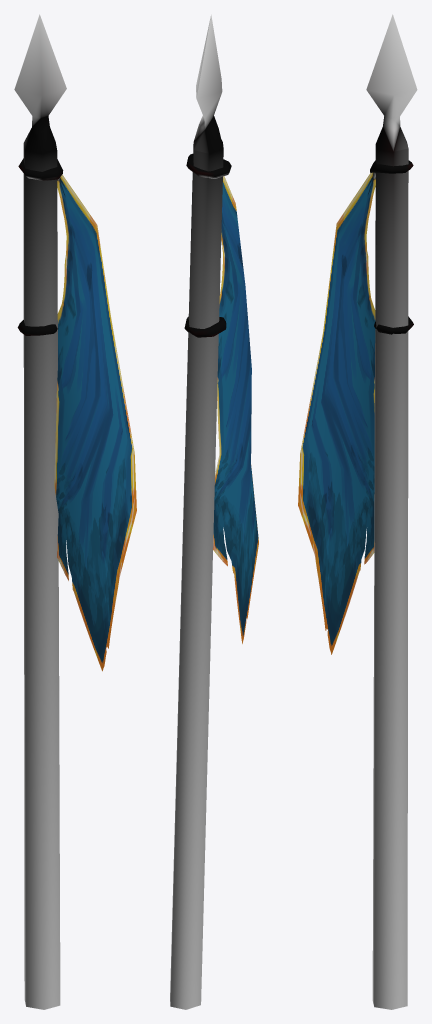
Rendered from SM_PROP_flag_03.FBX.
3 renders of one model, left to right at view 1: azimuth 90°, elevation 25°; view 2: azimuth 150°, elevation 25°; view 3: azimuth 270°, elevation 25°, orthographic. The views are drawn at different scales.
Parts seen in each view (by area): view 1: SM_PROP_flag_03; view 2: SM_PROP_flag_03; view 3: SM_PROP_flag_03.
Part boxes in pixels (<box>): SM_PROP_flag_03: <box>14,14,136,1009</box>; SM_PROP_flag_03: <box>170,14,258,1009</box>; SM_PROP_flag_03: <box>298,14,417,1009</box>.
Size of the model in its own units: 40.65 by 75.52 by 656.
